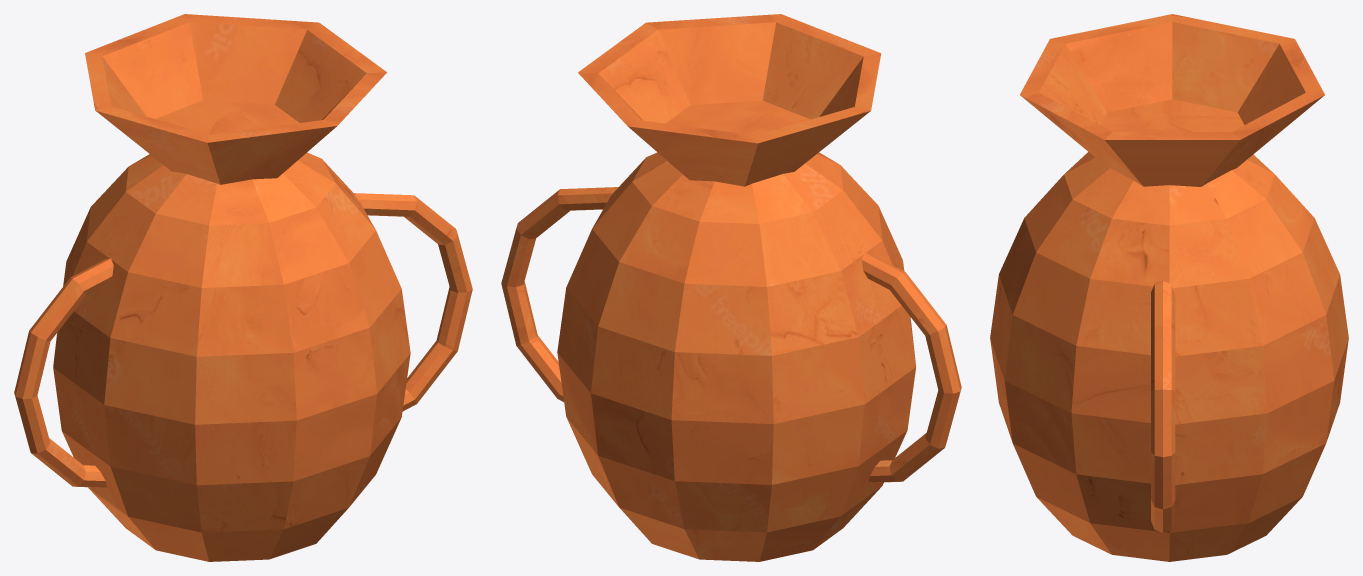
Rendered from Vase.fbx.
The picture shows the model from 3 angles, left to right: view 1: azimuth 30°, elevation 25°; view 2: azimuth 150°, elevation 25°; view 3: azimuth 270°, elevation 25°; orthographic projection.
Parts seen in each view (by area): view 1: pTorus4; view 2: pTorus4; view 3: pTorus4.
Boxes of the visible parts, left/top/right/bottom form: pTorus4: left=14, top=14, right=472, bottom=561; pTorus4: left=501, top=14, right=961, bottom=561; pTorus4: left=990, top=14, right=1348, bottom=561.
Bounding box in the file's own units: 11.61 × 11.13 × 7.91.
Materials: 1 (1 with a texture image).
